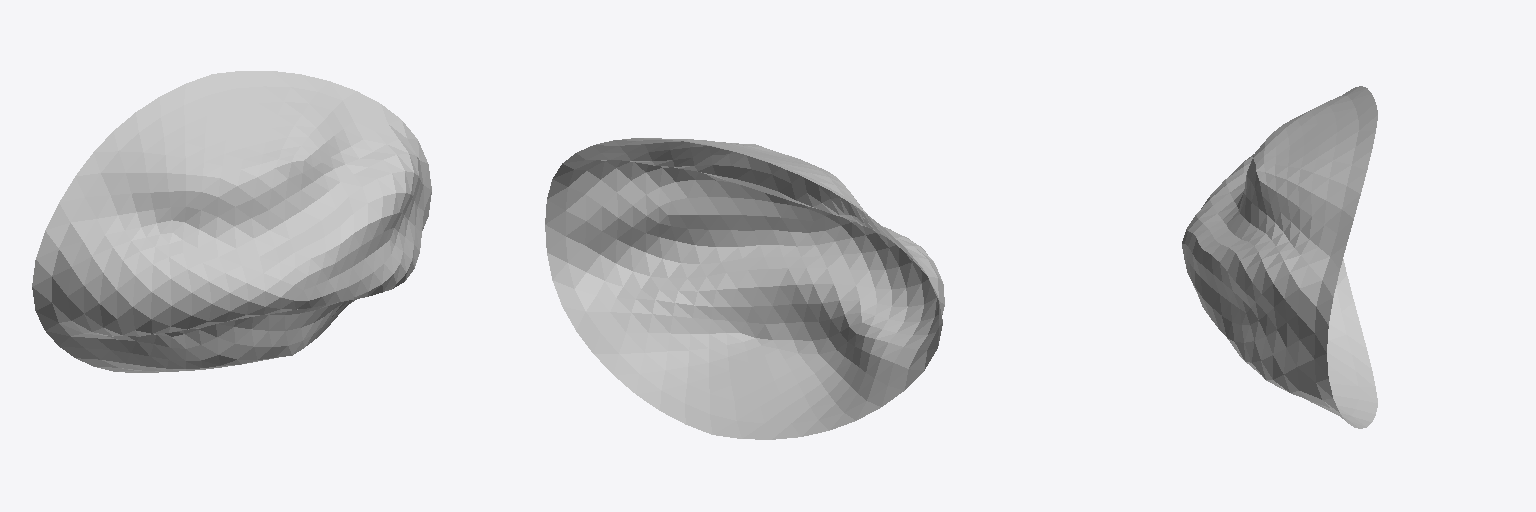
File: dome_obl_opt_deformed.obj
3 views of the same model, side by side, from view 1: azimuth 30°, elevation 25°; view 2: azimuth 150°, elevation 25°; view 3: azimuth 270°, elevation 25° (orthographic).
Visible parts, largest first — view 1: samples/dome_obl_opt_deformed; view 2: samples/dome_obl_opt_deformed; view 3: samples/dome_obl_opt_deformed.
Part boxes in pixels (left/top/right/bottom): samples/dome_obl_opt_deformed: left=32, top=71, right=431, bottom=372; samples/dome_obl_opt_deformed: left=545, top=138, right=944, bottom=439; samples/dome_obl_opt_deformed: left=1182, top=86, right=1377, bottom=428.
Bounding box in the file's own units: 14.54 × 10.06 × 6.21.